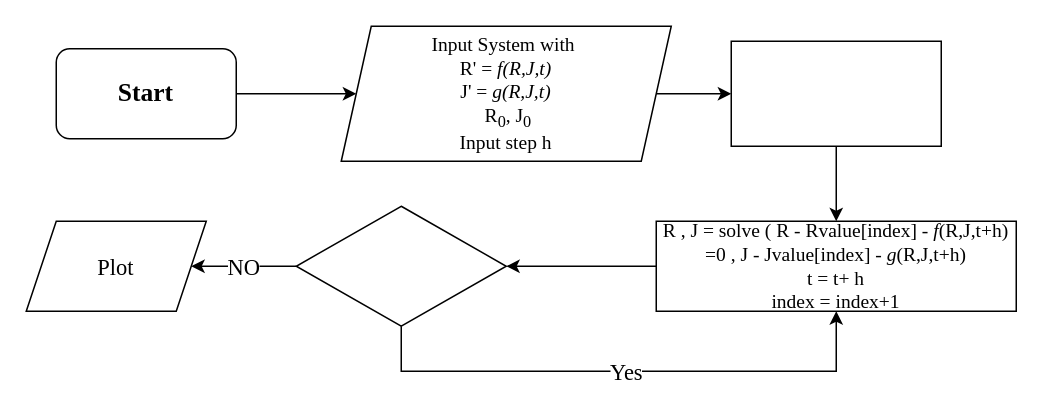
This 1043x411 diagram has some shape labels left out. Each missing label, with the centre of its shape:
t< 5+h: the point at 400,265
t=0 Array: Rvalue = [R 0 ] Jvalue = [J 0 ] index =0: the point at 835,93
